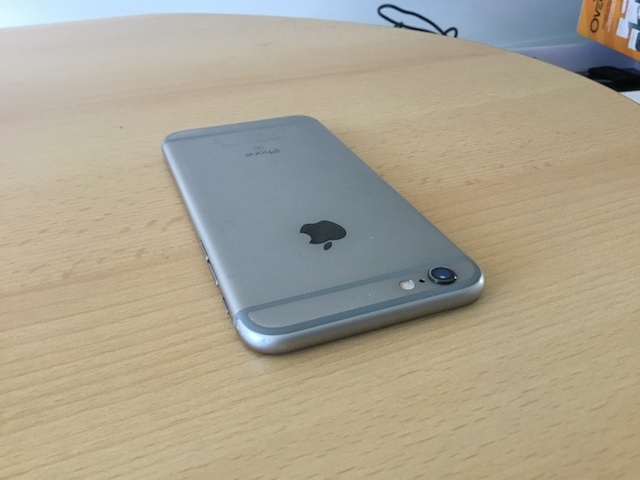phone: (156, 111, 492, 361)
